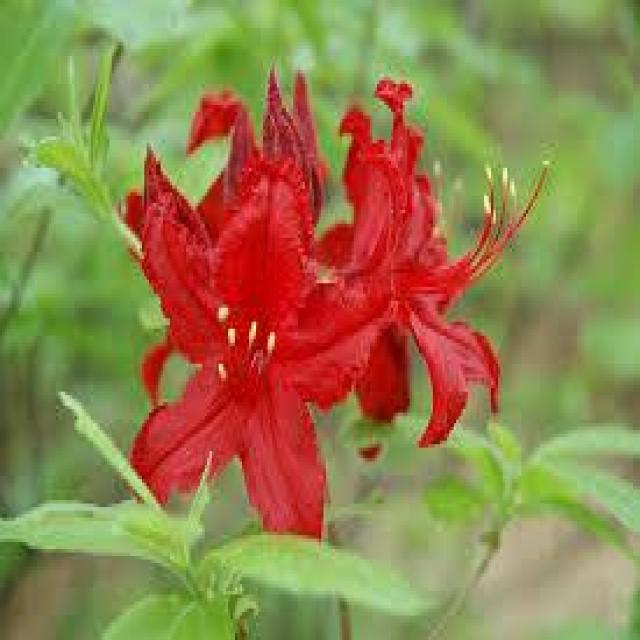organic waste: (115, 133, 385, 563), (290, 88, 529, 458)
